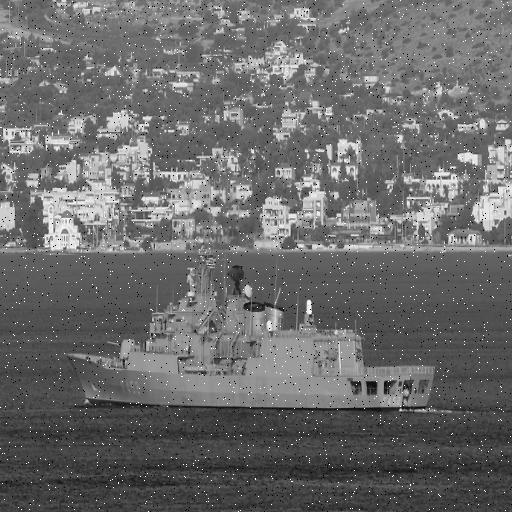Fragata: (64, 248, 438, 419)
